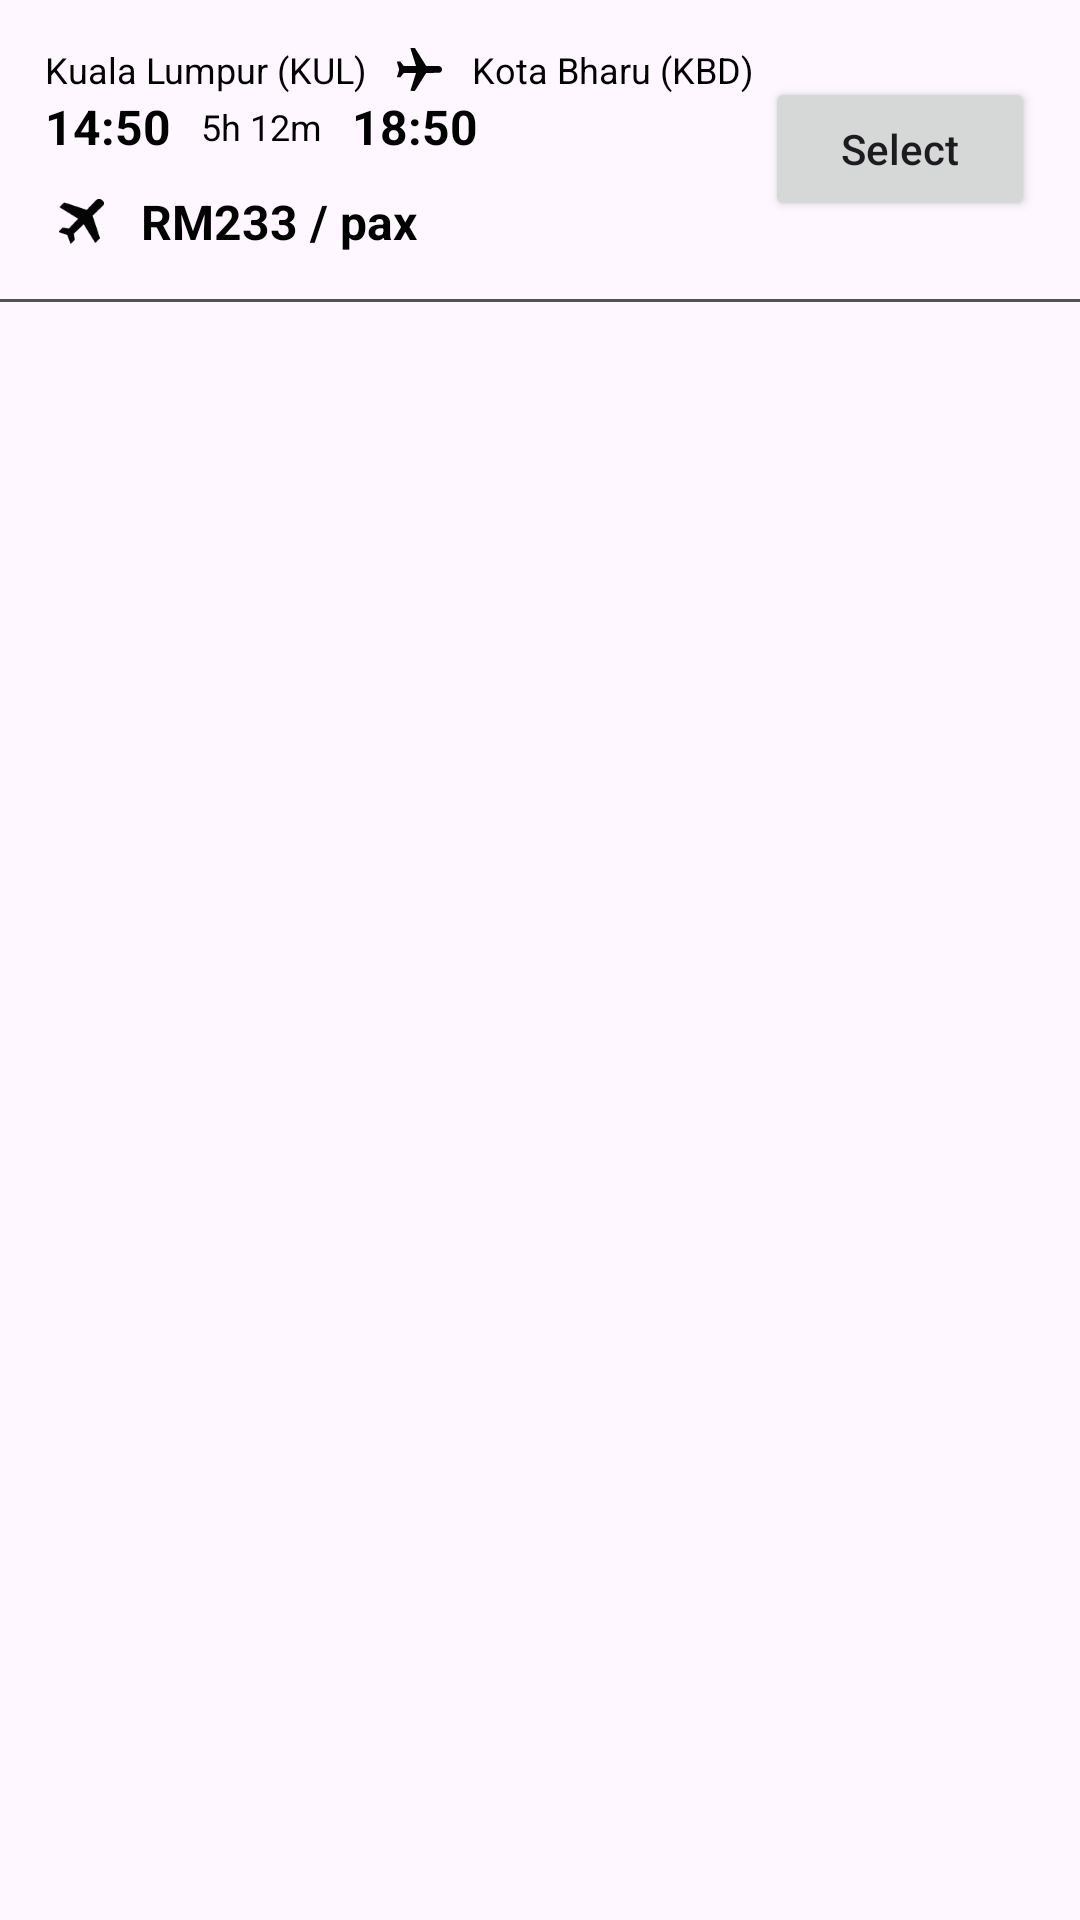

Icon bounding boxes for this 1080px×1920px phone screenshot, format (x1, y1, x2, y2):
airplane flying up: (59, 199, 104, 244)
airplane straight: (397, 48, 442, 91)
